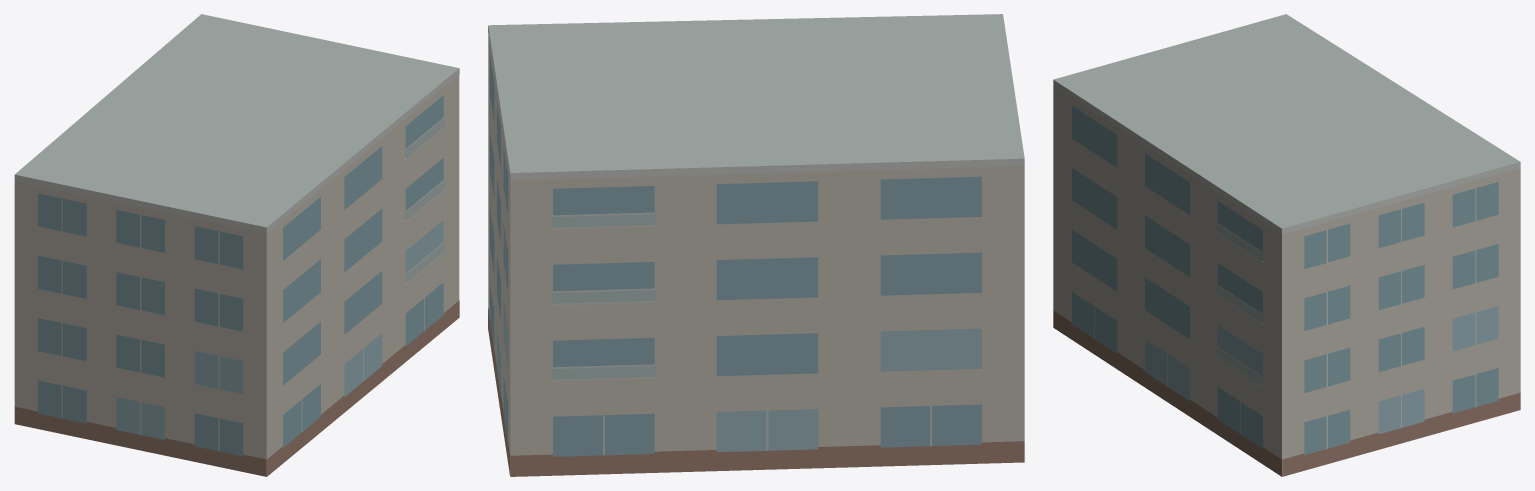
The model's file is survey-upis-32683057.glb.
The picture shows the model from 3 angles, left to right: view 1: azimuth 30°, elevation 25°; view 2: azimuth 150°, elevation 25°; view 3: azimuth 270°, elevation 25°; orthographic projection. The views are drawn at different scales.
Parts seen in each view (by area): view 1: survey-upis-32683057.tmp; view 2: survey-upis-32683057.tmp; view 3: survey-upis-32683057.tmp.
Part boxes in pixels (x1,y1,x2,y2): survey-upis-32683057.tmp: (14, 14, 459, 476); survey-upis-32683057.tmp: (488, 14, 1024, 476); survey-upis-32683057.tmp: (1053, 14, 1520, 476).
Size of the model in its own units: 18.77 by 10.1 by 17.26.
